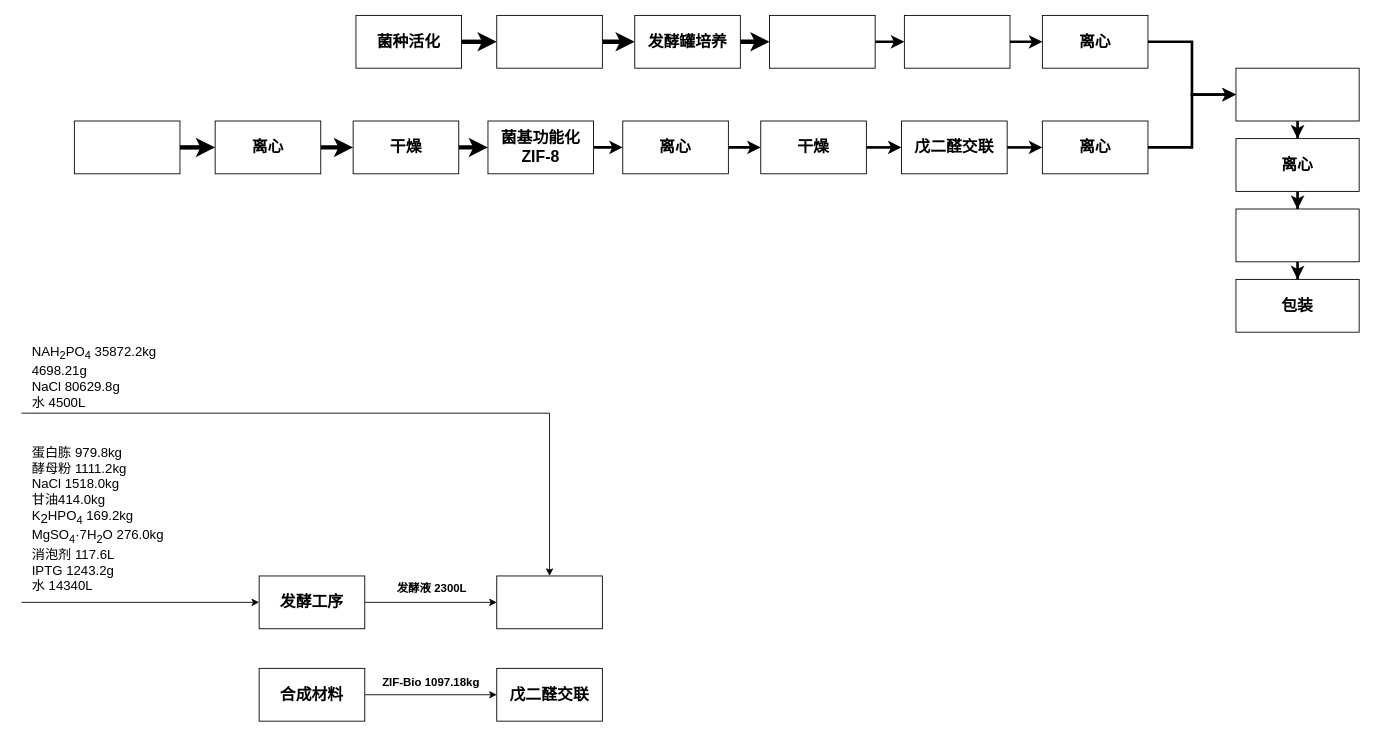
Image size: 1375x737. Some labels were removed from this diagram. Here are the shapes that lost their labels. From the top down, the box of each, then its label:
(496, 15, 602, 68): 种子液培养
(769, 15, 875, 68): 发酵后预处理
(903, 15, 1010, 68): 细胞破碎
(1235, 67, 1359, 121): β琼胶酶固定化
(73, 120, 180, 174): 合成ZIF-8
(1235, 208, 1359, 262): 真空干燥
(496, 575, 602, 629): 粗酶提取
